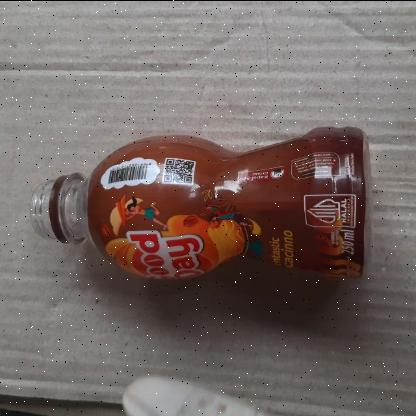Plastic Bottle: (32, 124, 374, 278)
